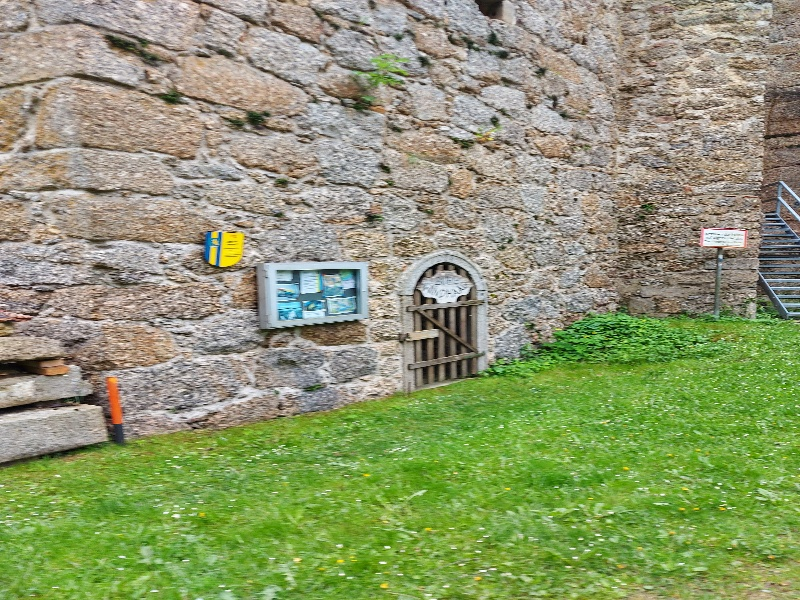dungeon: (390, 237, 503, 398)
